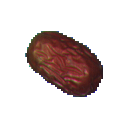gd: (15, 21, 119, 115)
